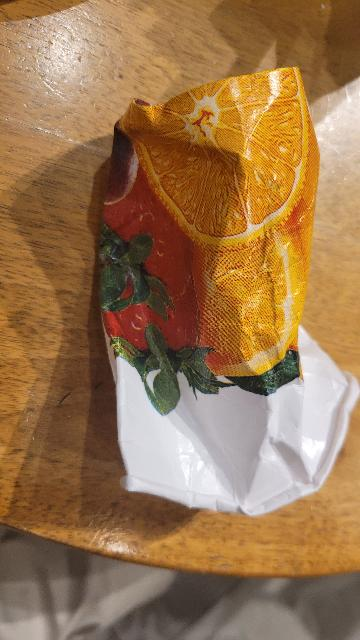Kagit: (94, 64, 360, 516)
